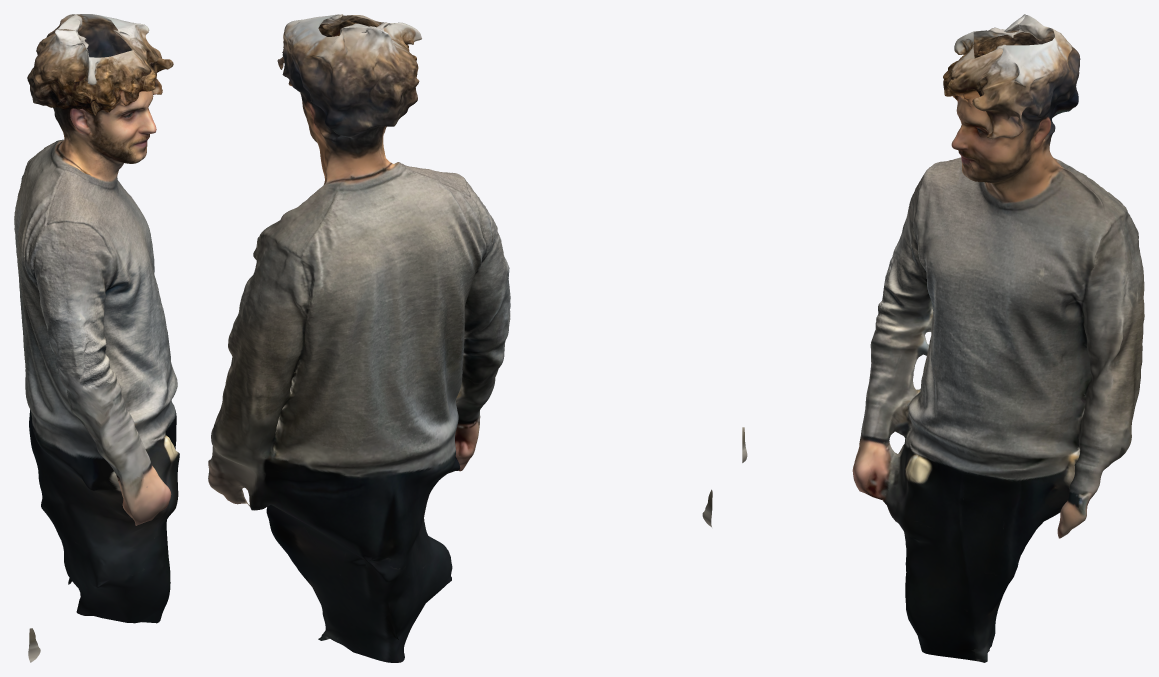
Rendered from 3DModel.obj.
3 renders of one model, left to right at view 1: azimuth 30°, elevation 25°; view 2: azimuth 150°, elevation 25°; view 3: azimuth 270°, elevation 25°, orthographic. The views are drawn at different scales.
Visible parts, largest first — view 1: 3DModel; view 2: 3DModel; view 3: 3DModel.
Part boxes in pixels (x1=…): 3DModel: x1=14, y1=14, x2=179, y2=662; 3DModel: x1=208, y1=14, x2=712, y2=662; 3DModel: x1=742, y1=14, x2=1144, y2=662.
Bounding box in the file's own units: 1.19 × 2.29 × 1.36.
1 material, 1 textured.
